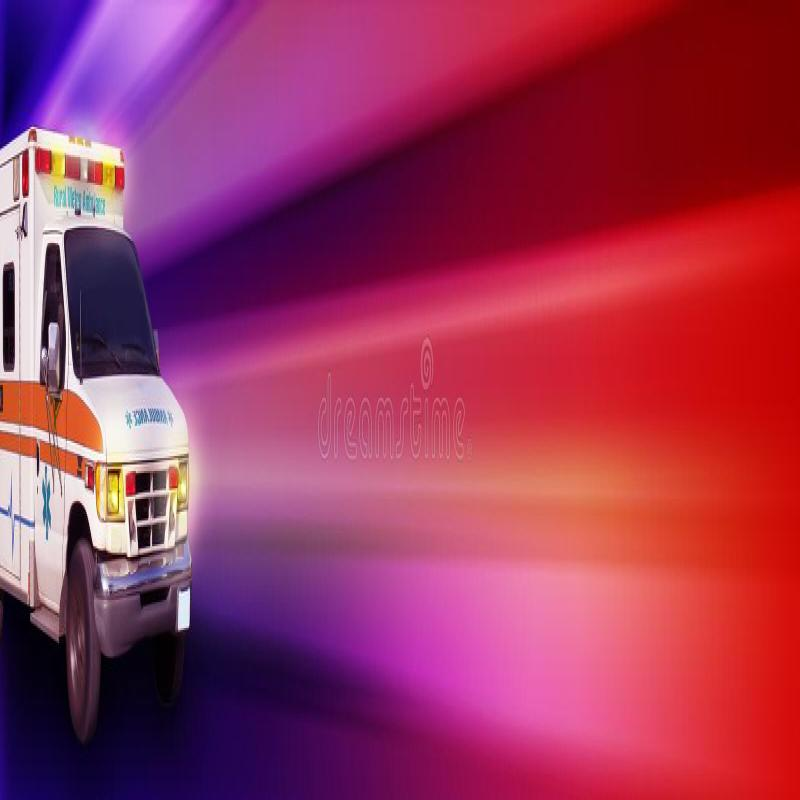ambulance: (0, 58, 206, 757)
